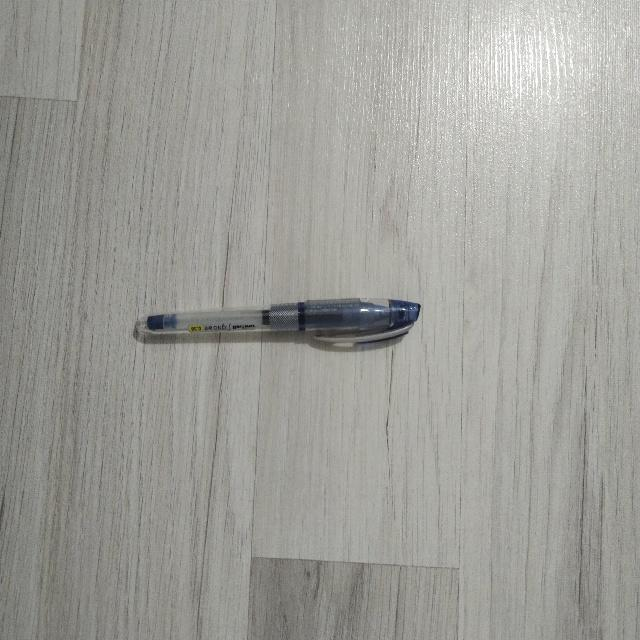pen: (136, 298, 419, 342)
